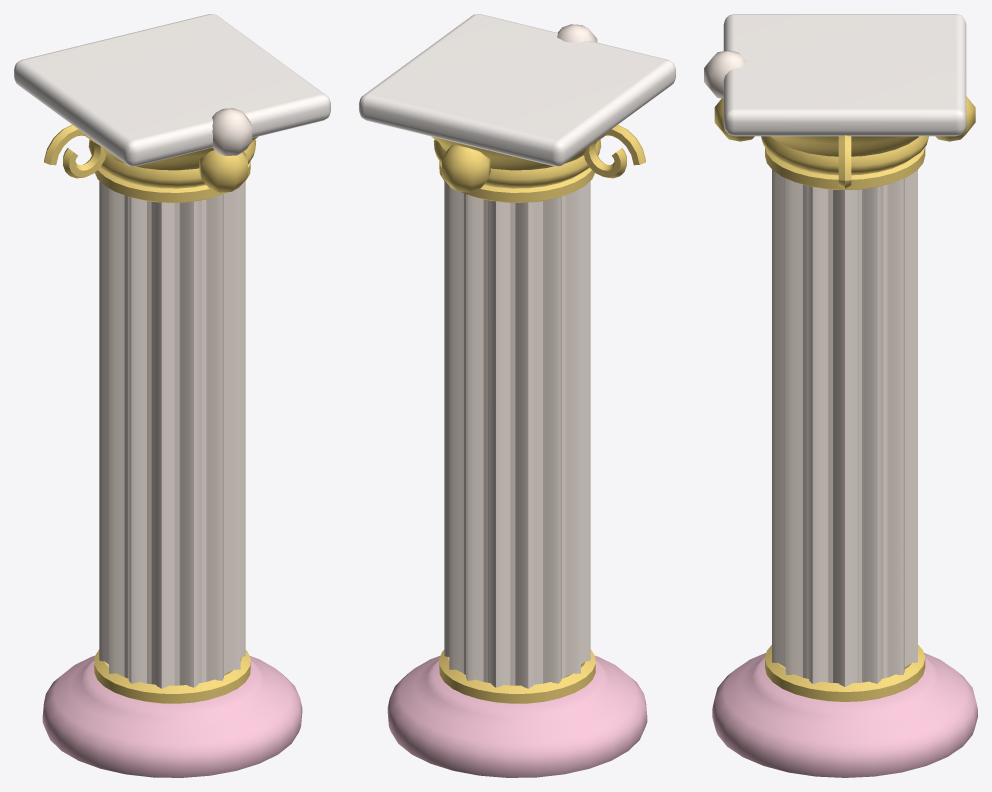
Rendered from column_rococo.glb.
3 renders of one model, left to right at view 1: azimuth 30°, elevation 25°; view 2: azimuth 150°, elevation 25°; view 3: azimuth 270°, elevation 25°, orthographic. The views are drawn at different scales.
Parts seen in each view (by area): view 1: column_rococo; view 2: column_rococo; view 3: column_rococo.
Part boxes in pixels (<box>): column_rococo: <box>14,14,330,777</box>; column_rococo: <box>359,14,675,777</box>; column_rococo: <box>704,14,977,777</box>.
Size of the model in its own units: 1.45 by 3.55 by 1.31.
